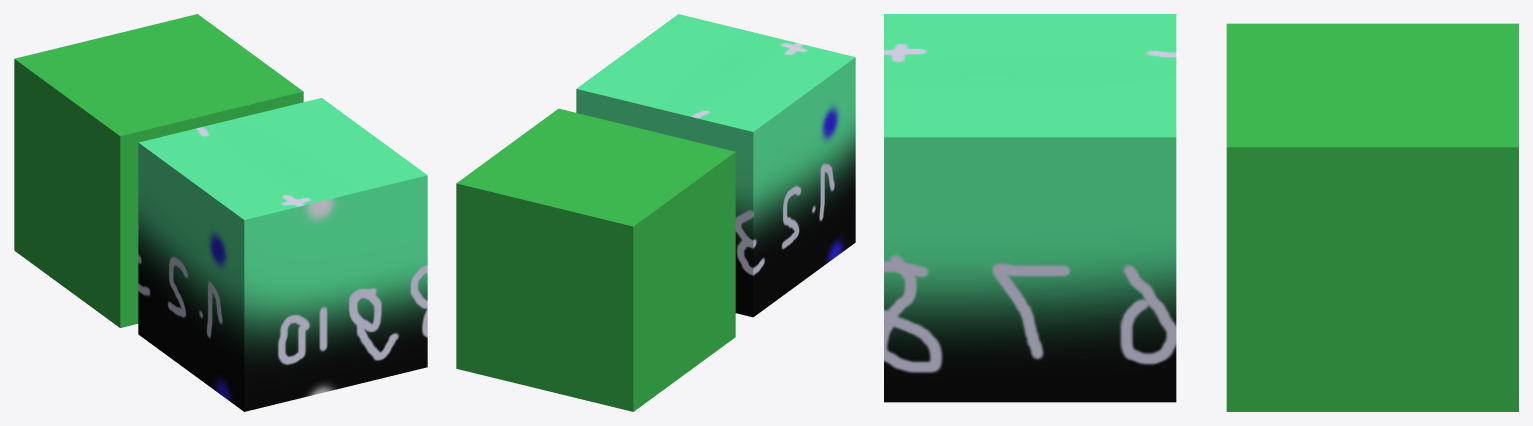
The model's file is testobj.glb.
The picture shows the model from 3 angles, left to right: view 1: azimuth 30°, elevation 25°; view 2: azimuth 150°, elevation 25°; view 3: azimuth 270°, elevation 25°; orthographic projection. The views are drawn at different scales.
Visible parts, largest first — view 1: Cube, Cube.001; view 2: Cube.001, Cube; view 3: Cube.001, Cube.
Boxes of the visible parts, x1,y1,x2,y2 form: Cube: [138, 98, 427, 411]; Cube.001: [14, 14, 303, 327]; Cube.001: [456, 108, 735, 411]; Cube: [576, 14, 855, 317]; Cube.001: [1226, 23, 1518, 411]; Cube: [884, 14, 1176, 402].
Bounding box in the file's own units: 0.6 × 0.622 × 1.3.
Materials: 2 (2 with a texture image).
